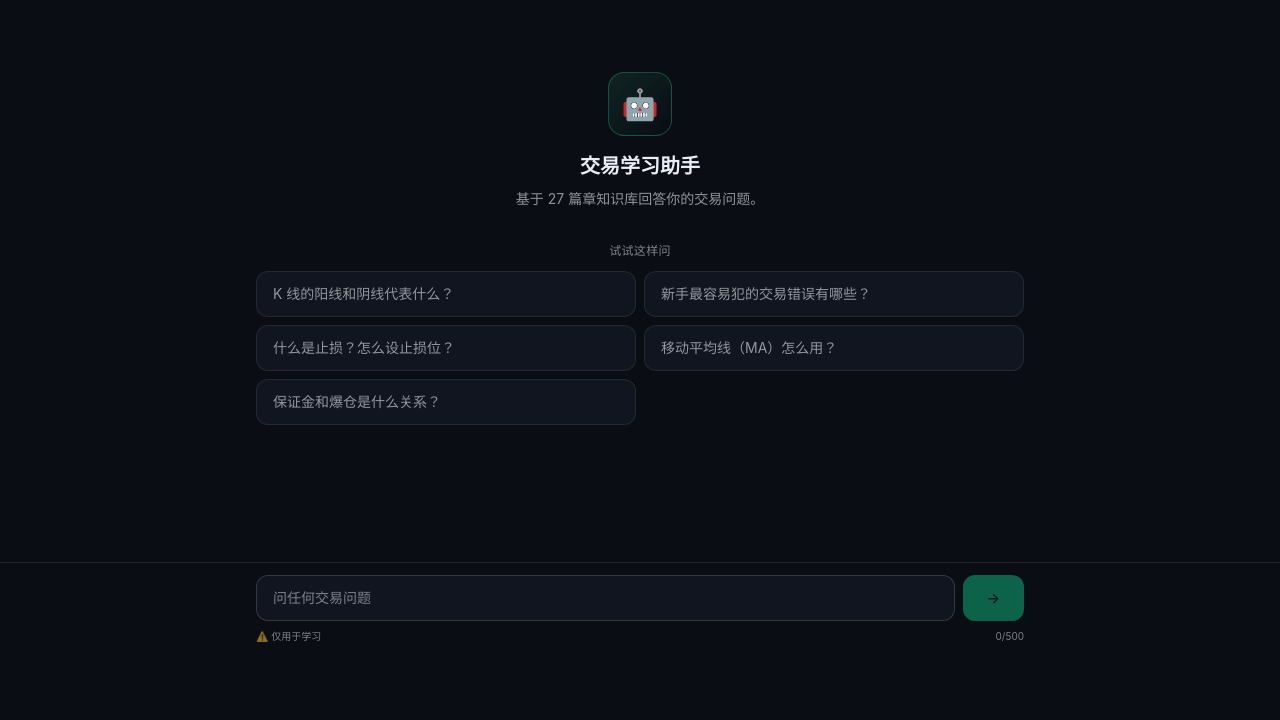
Test case: AiChat 回答操作与对话管理 › 异步剪贴板缺失时用 execCommand 兜底，仍算复制成功
Click the button "K 线的阳线和阴线代表什么？" at (446, 294), box top-left (256, 271), bottom-right (636, 317)
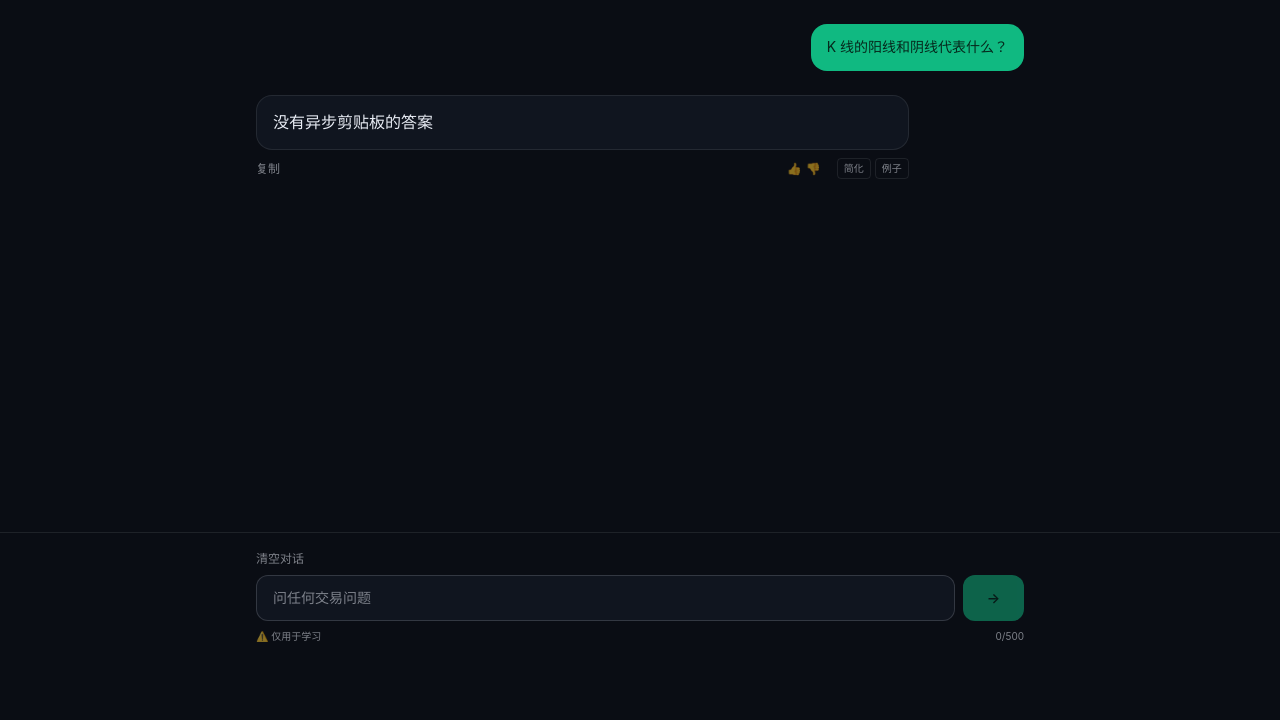
Check: the text "没有异步剪贴板的答案" is shown, box top-left (273, 112), bottom-right (433, 132)
Click the button "复制" at (268, 169), box top-left (256, 161), bottom-right (280, 177)
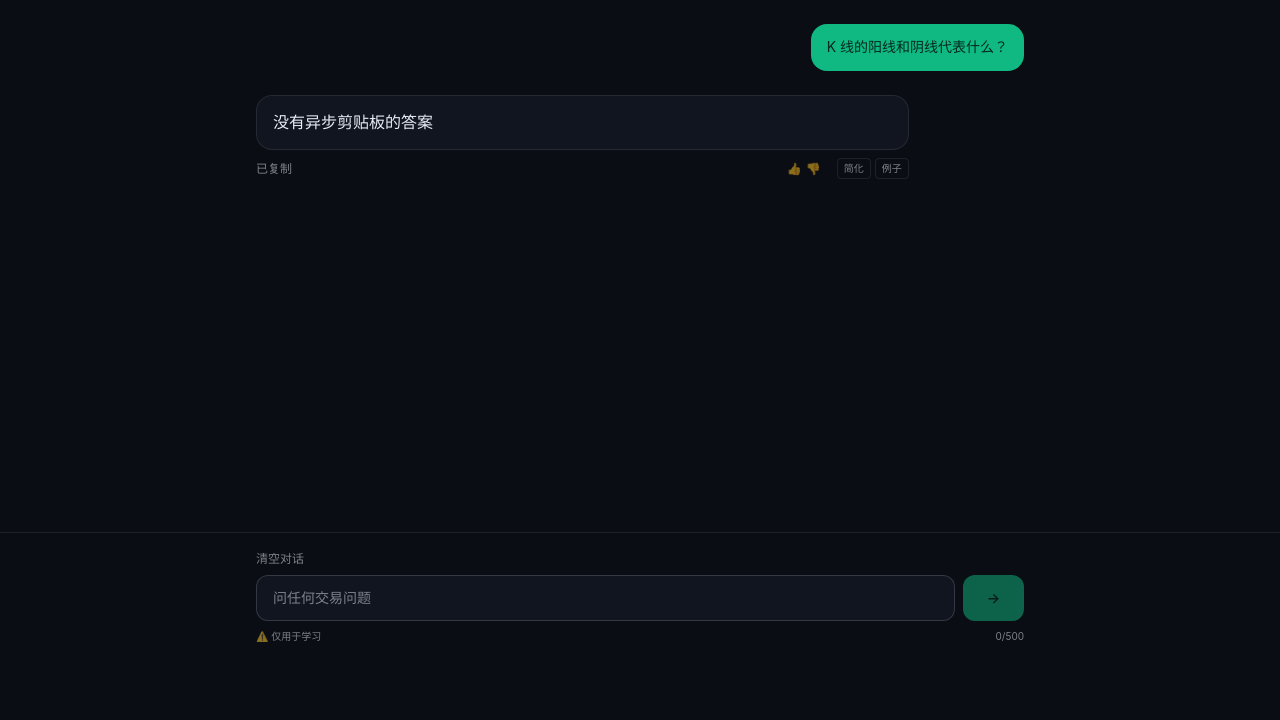
Check: the button "已复制" is shown, box top-left (256, 161), bottom-right (292, 177)
